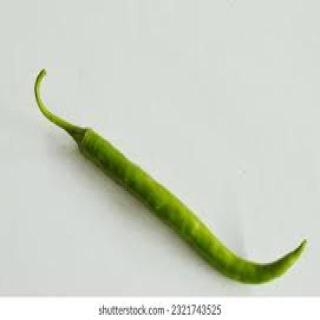Cabai Hijau: (34, 69, 306, 286)
